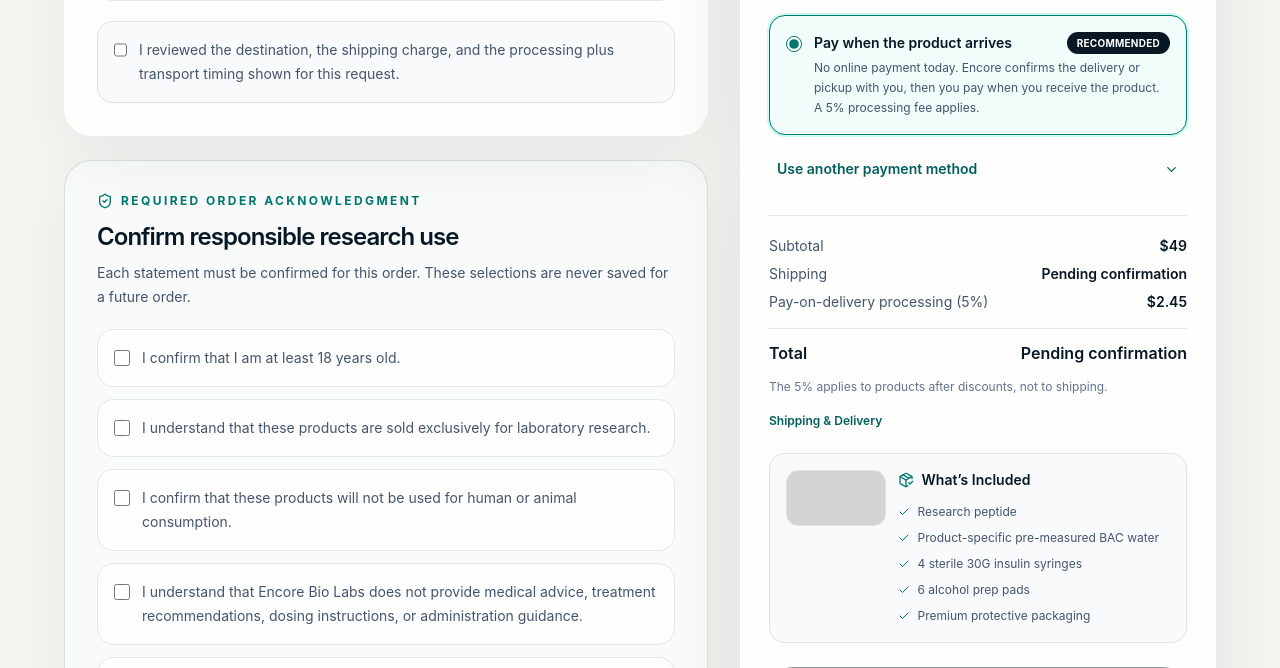
Scenario: checkout acknowledgment flow › keeps the real final checkout action disabled until all five boxes are selected
(page scrolled)
Step 1. Click the checkbox labelled "I confirm that I am at least 18 years old." → (122, 358), box [114,350,130,366]
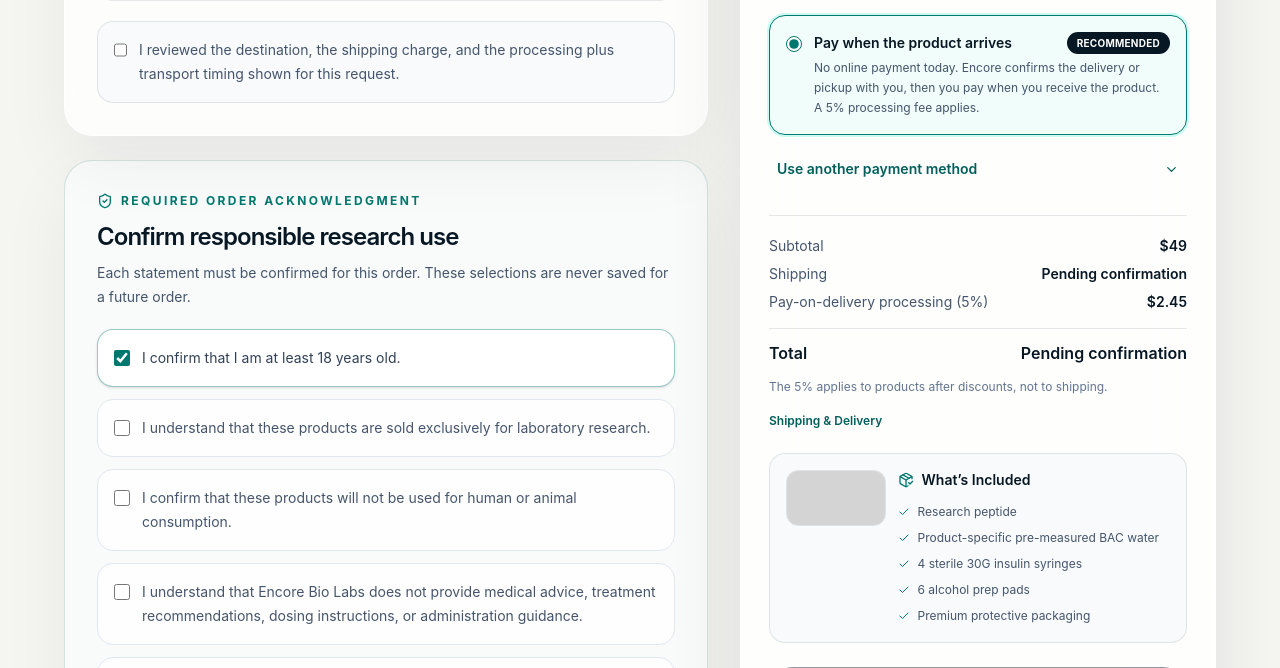
Step 2. Click the 3rd checkbox → (122, 428), box [114,420,130,436]
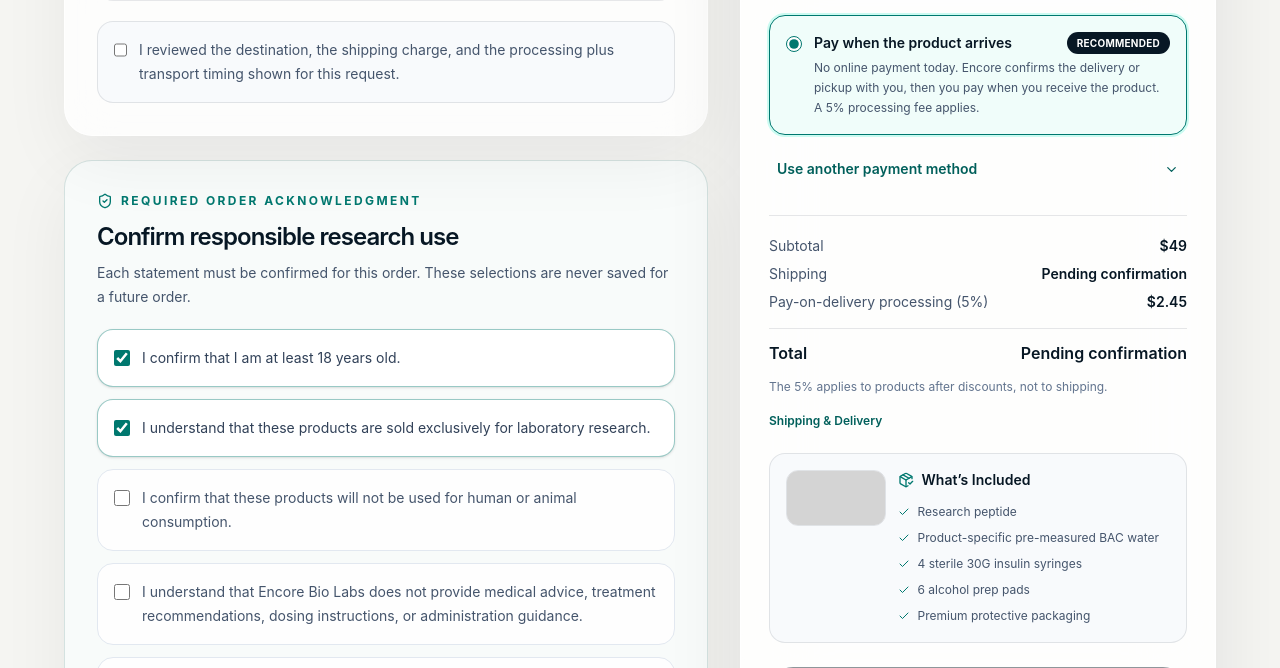
Step 3. Click the 4th checkbox → (122, 498), box [114,490,130,506]
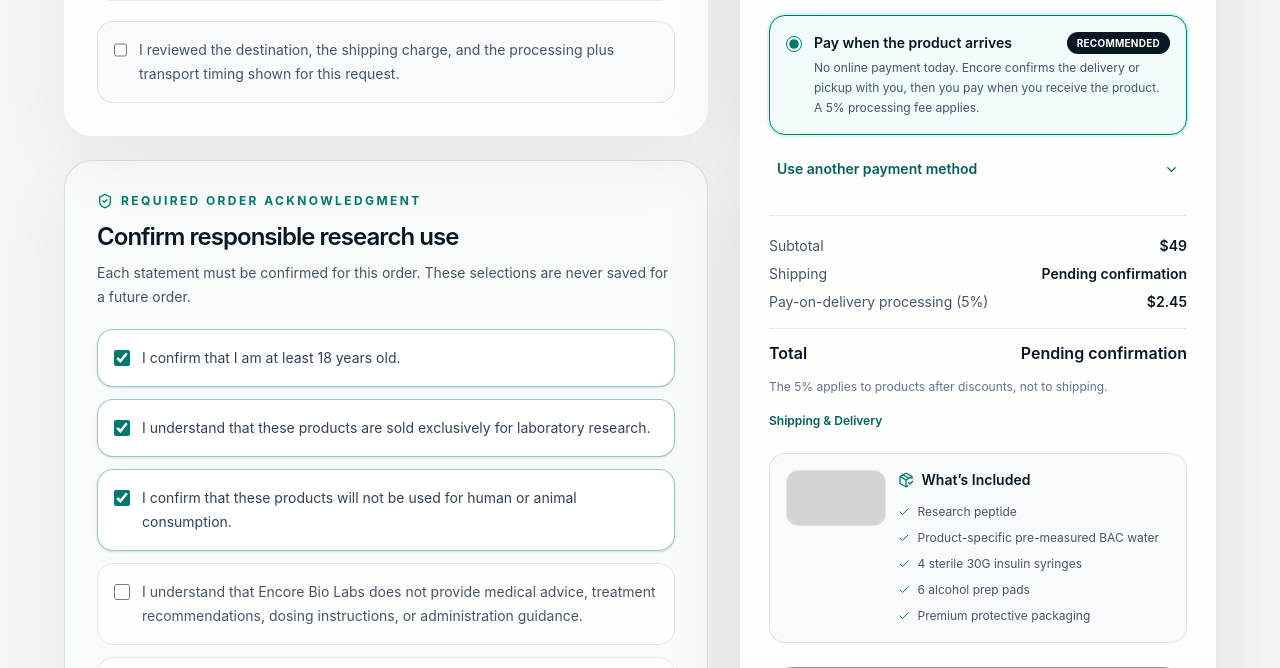
Step 4. Click the 5th checkbox → (122, 592), box [114,584,130,600]
(page scrolled)
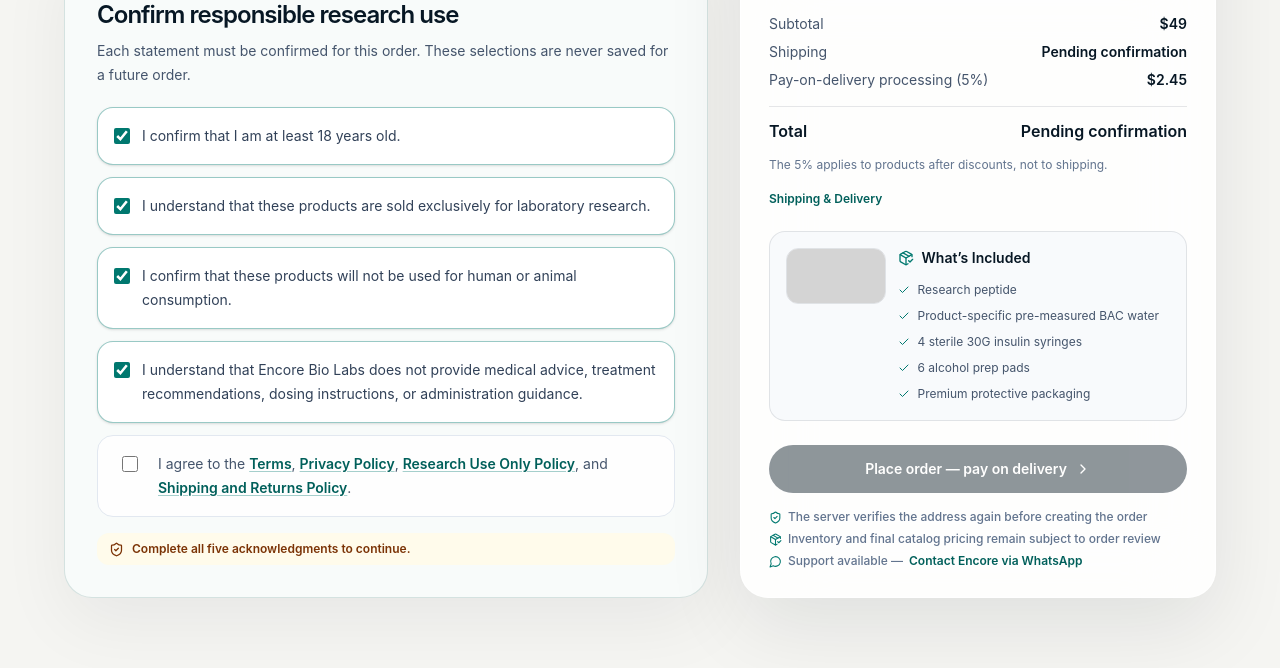
Step 5. Click the 5th checkbox → (130, 464), box [122,456,138,472]
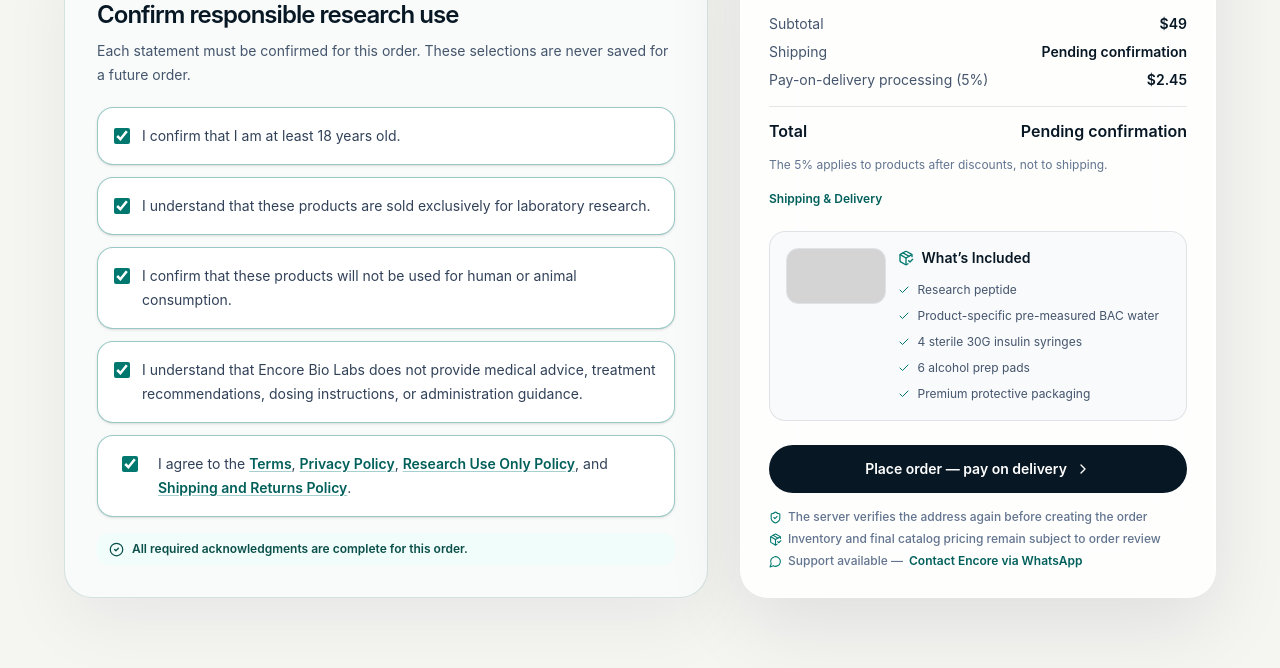
Check: the button "Place order — pay on delivery" is enabled, box [769,445,1187,493]
